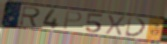4: (42, 9, 59, 30)
5: (83, 12, 105, 34)
D: (124, 16, 148, 38)
P: (62, 11, 83, 31)
R: (18, 5, 42, 29)
X: (104, 14, 128, 37)
